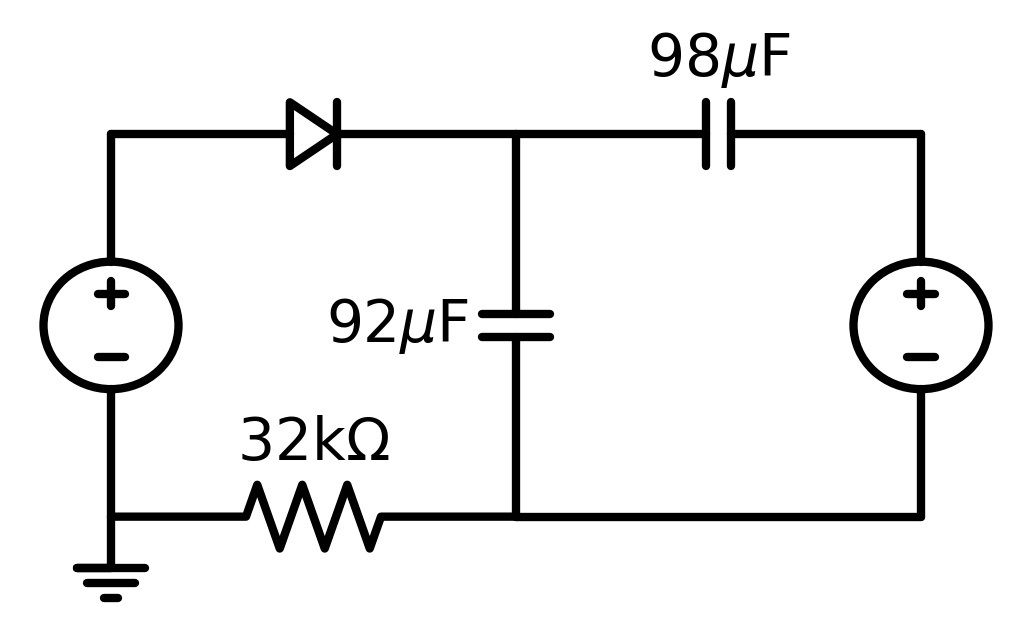capacitor: (681, 90, 752, 182), (470, 303, 561, 354)
diode: (270, 89, 357, 176)
ground: (55, 546, 161, 619)
resistor: (234, 468, 386, 562)
sourcedc: (34, 252, 186, 396), (848, 253, 997, 399)
